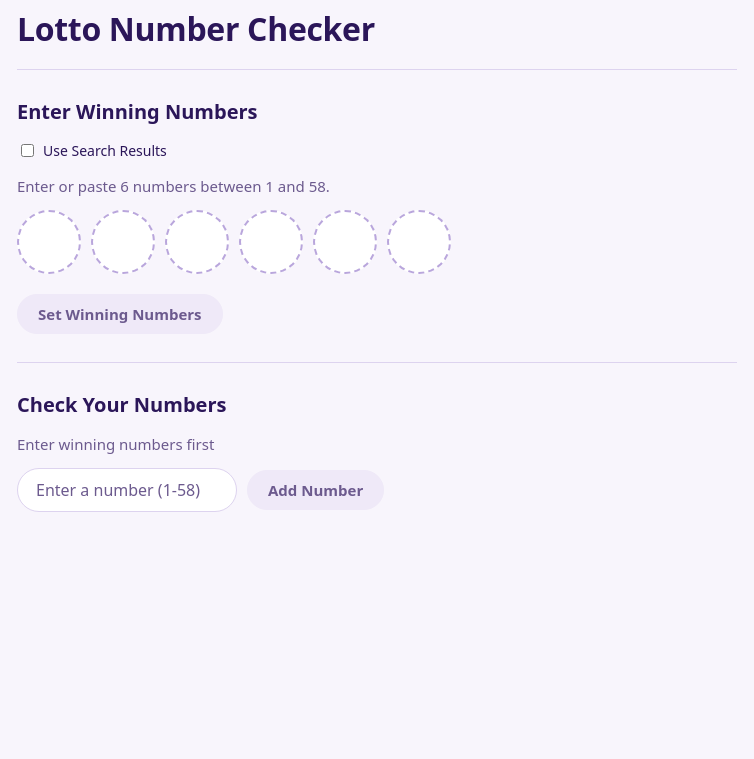
Test: WinningNumberComponent live results flag › loads search results once the toggle is checked
What coordinates should you click on to do the following:
click the checkbox with id "use-search"
I would click on:
 (28, 150)
Its box is [21,144,34,157].
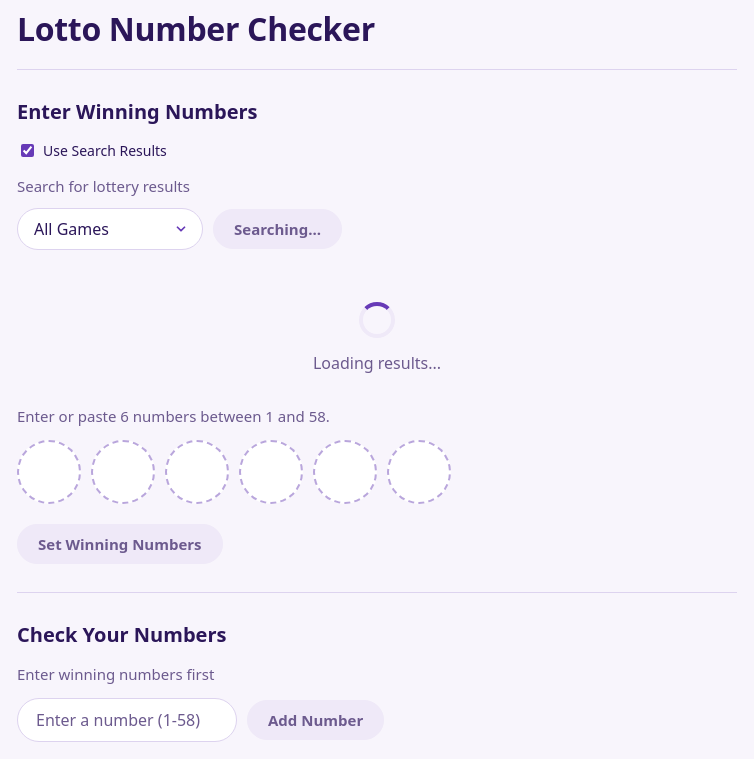
Check: the element showing "Search for lottery results Searching... Loading results..." is shown, box [16,176,441,374]
